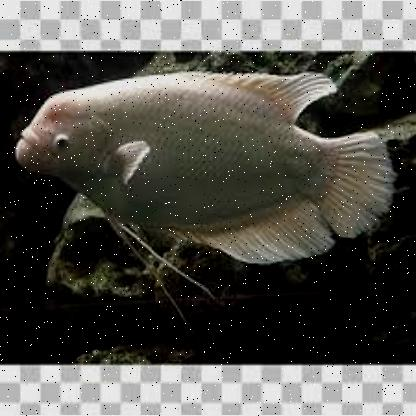gurame: (15, 76, 383, 260)
